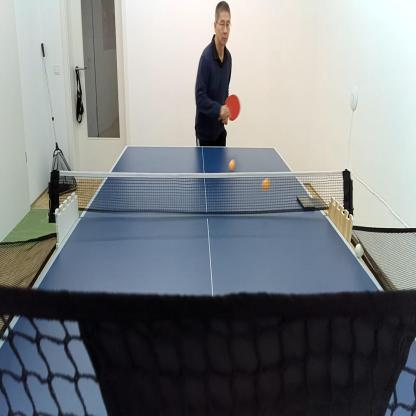Ball: (356, 242, 364, 258), (263, 180, 270, 192), (228, 159, 234, 169)
